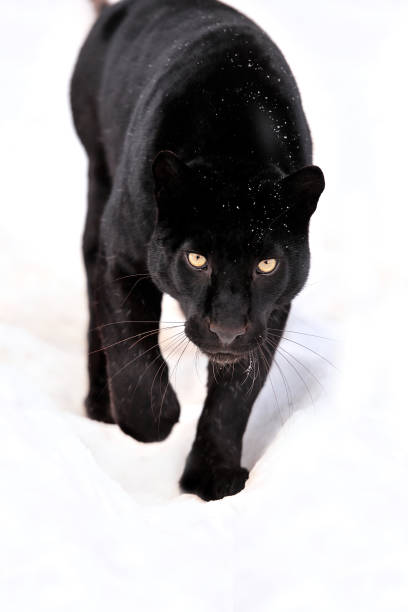panther: (115, 132, 347, 384)
